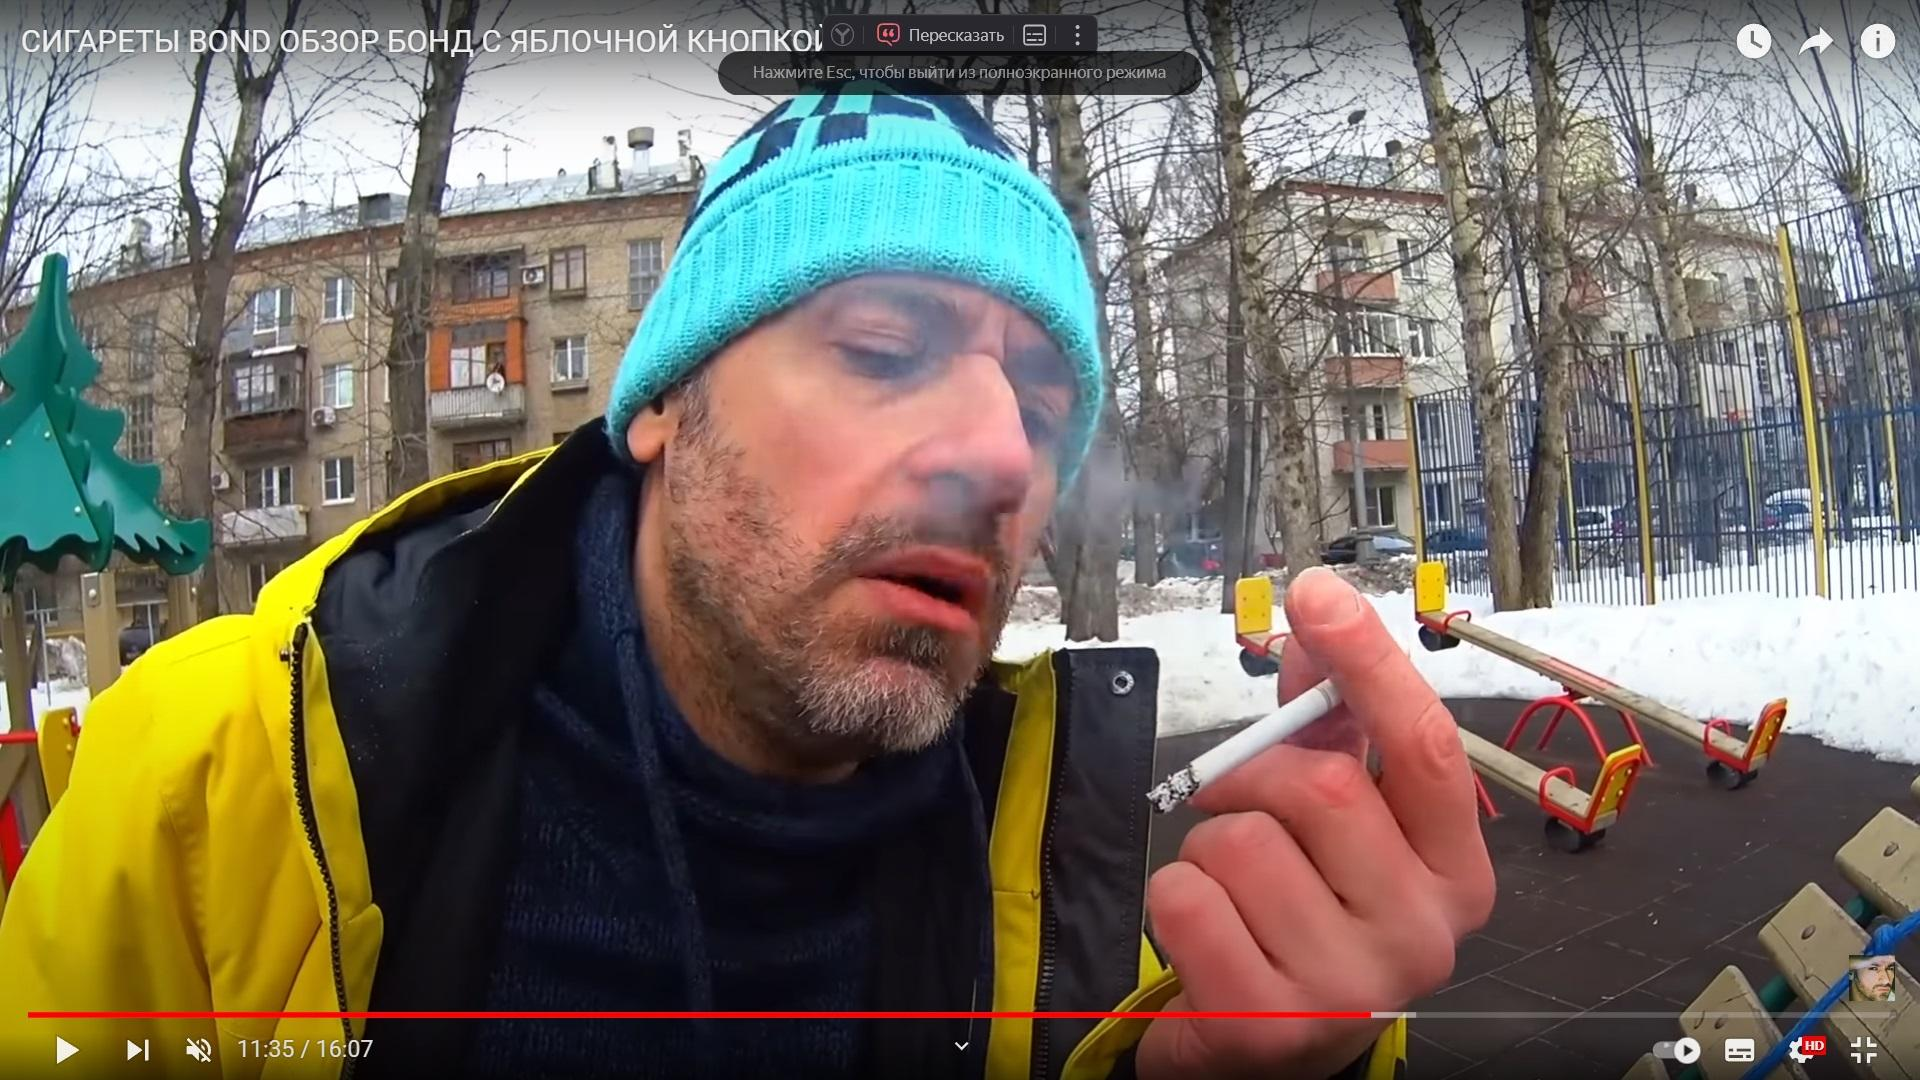cigarette: (1143, 634, 1414, 816)
